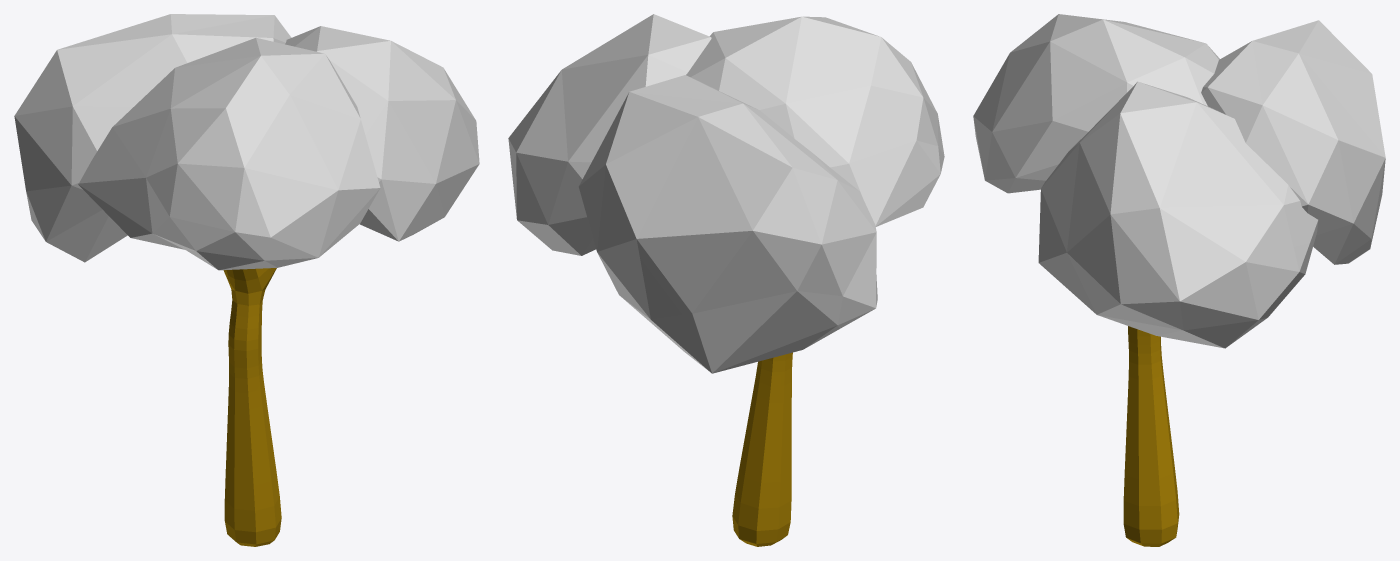
The model's file is tree4.glb.
3 renders of one model, left to right at view 1: azimuth 30°, elevation 25°; view 2: azimuth 150°, elevation 25°; view 3: azimuth 270°, elevation 25°, orthographic.
Parts seen in each view (by area): view 1: leaf, trunk; view 2: leaf, trunk; view 3: leaf, trunk.
Part boxes in pixels (left/top/right/bottom): leaf: left=14, top=14, right=479, bottom=270; trunk: left=223, top=268, right=281, bottom=546; leaf: left=508, top=14, right=944, bottom=373; trunk: left=732, top=352, right=792, bottom=546; leaf: left=973, top=14, right=1385, bottom=348; trunk: left=1123, top=326, right=1179, bottom=546.
Bounding box in the file's own units: 2.63 × 3.2 × 2.33.
